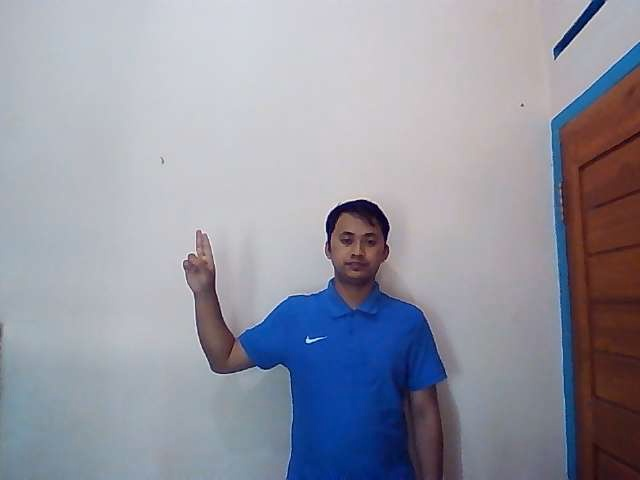U: (181, 229, 217, 293)
